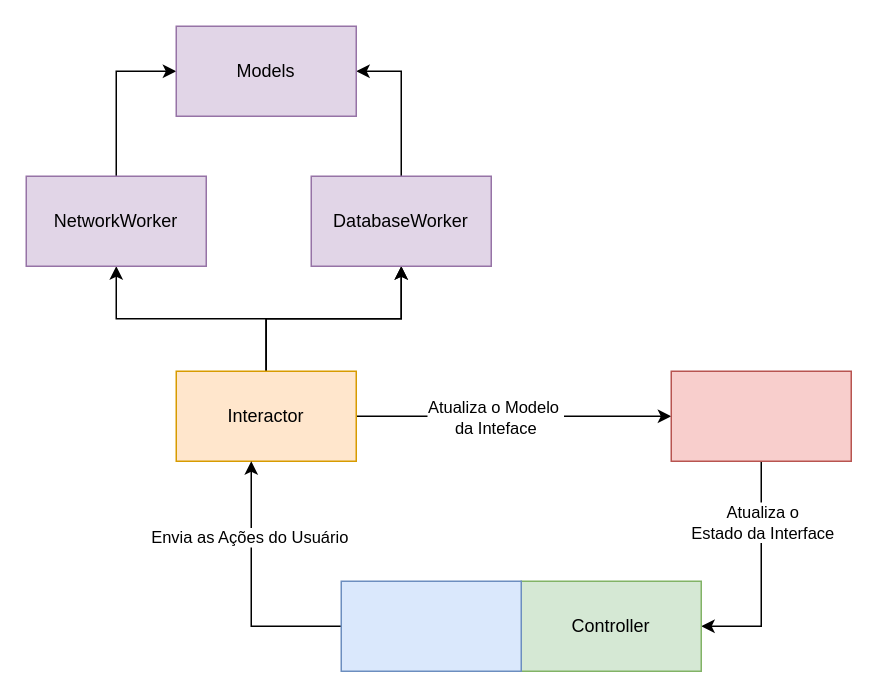
The diagram is 878 pixels wide and 698 high, and some of its shapes have lost their labels. Each missing label, with the centre of its shape:
"Presenter" belongs at pixel 760 415.
"View" belongs at pixel 430 625.
